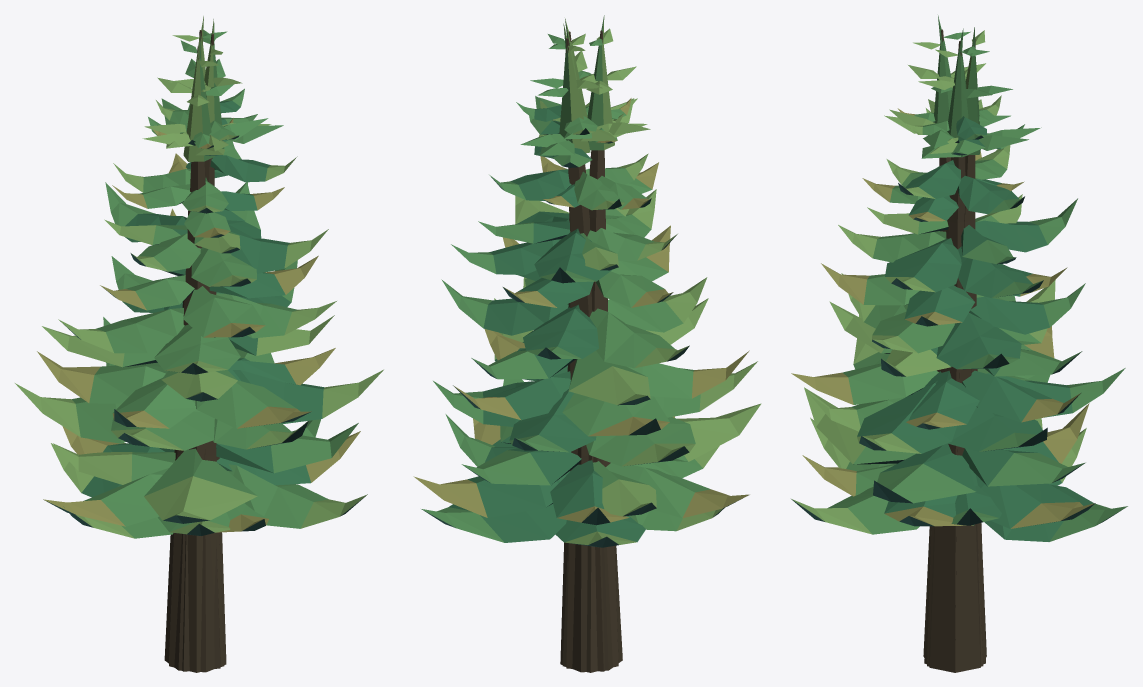
Rendered from camp-forest-pines.glb.
3 views of the same model, side by side, from view 1: azimuth 30°, elevation 25°; view 2: azimuth 150°, elevation 25°; view 3: azimuth 270°, elevation 25° (orthographic).
Parts seen in each view (by area): view 1: Camp pine near, Camp pine middle, Camp pine far; view 2: Camp pine near, Camp pine middle, Camp pine far; view 3: Camp pine near, Camp pine middle, Camp pine far.
Part boxes in pixels (left/top/right/bottom): Camp pine near: left=15, top=19, right=383, bottom=672; Camp pine middle: left=37, top=33, right=360, bottom=672; Camp pine far: left=42, top=16, right=358, bottom=671; Camp pine near: left=421, top=18, right=757, bottom=672; Camp pine middle: left=413, top=15, right=749, bottom=672; Camp pine far: left=461, top=23, right=761, bottom=671; Camp pine near: left=791, top=28, right=1127, bottom=672; Camp pine middle: left=791, top=15, right=1095, bottom=666; Camp pine far: left=804, top=27, right=1085, bottom=664.
Bounding box in the file's own units: 0.492 × 1 × 0.4771.
